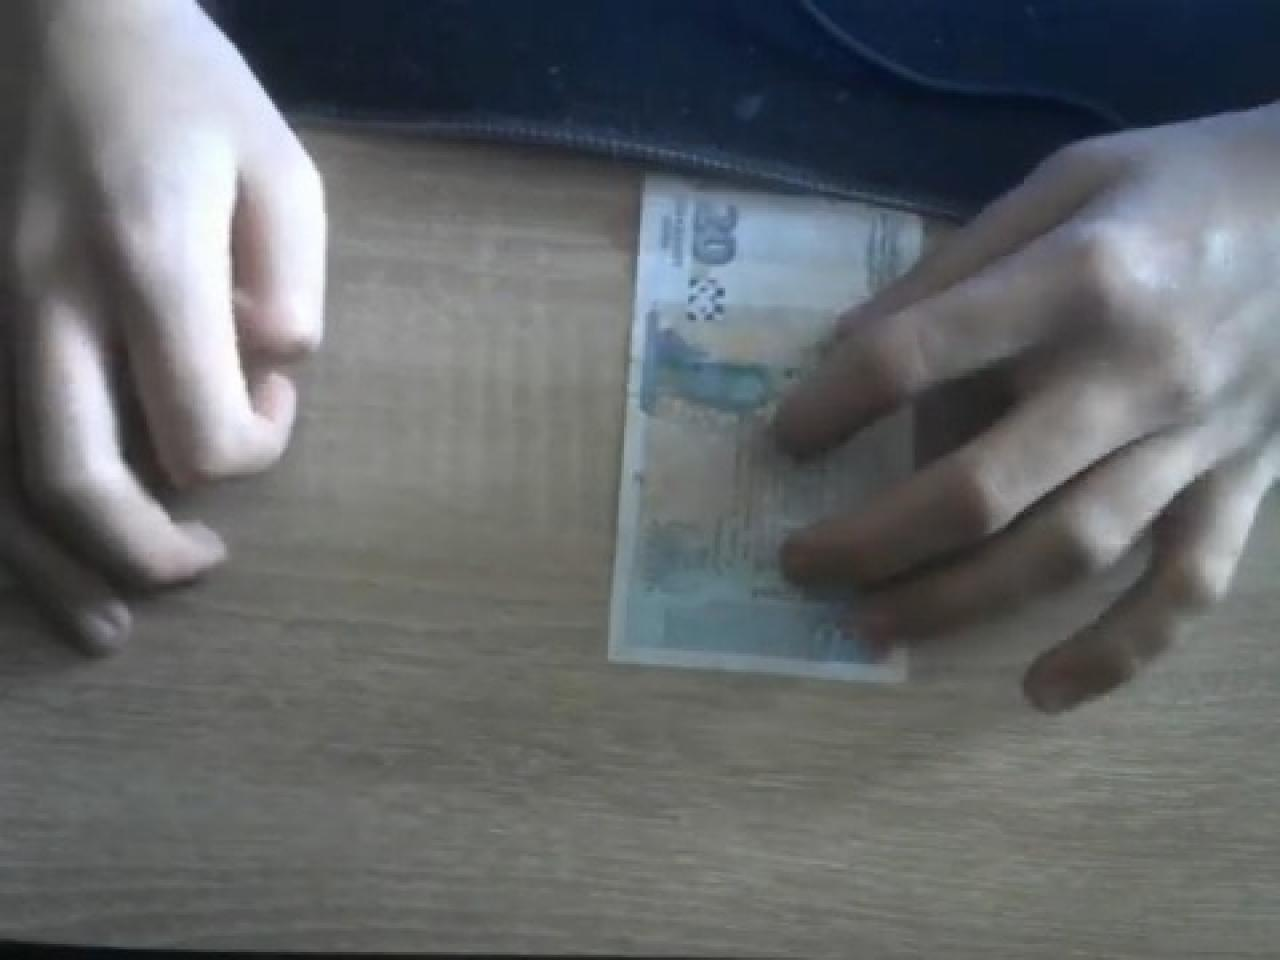20leva: (608, 176, 925, 683)
